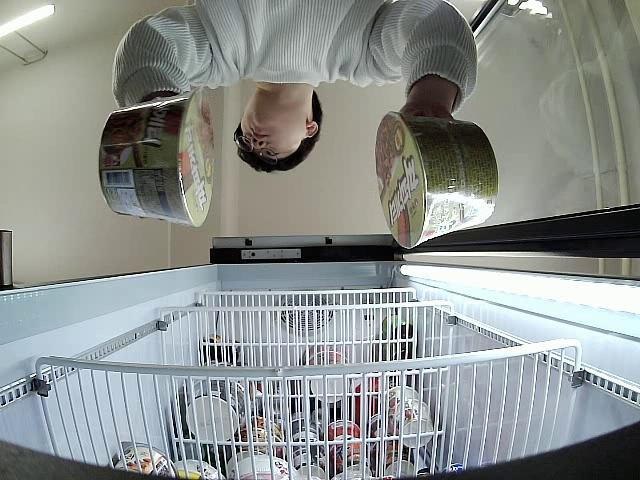03_chapagetti_L: (375, 110, 499, 249), (98, 89, 217, 229)
